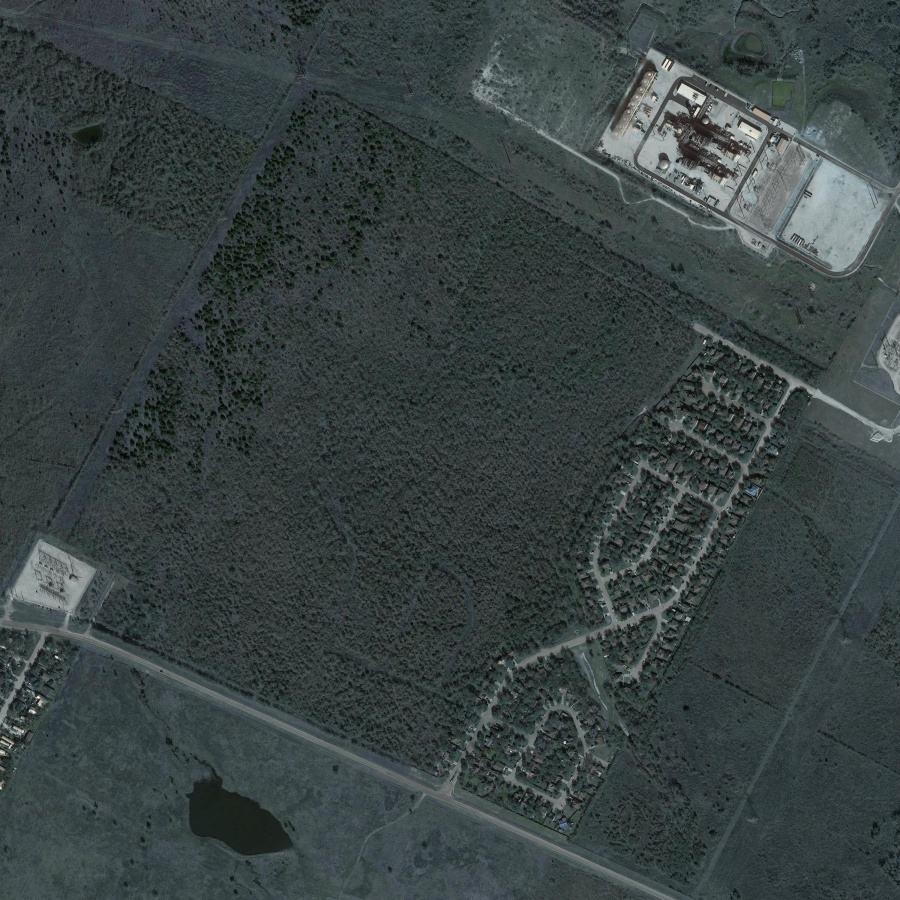PowerPlant: (601, 51, 811, 241)
